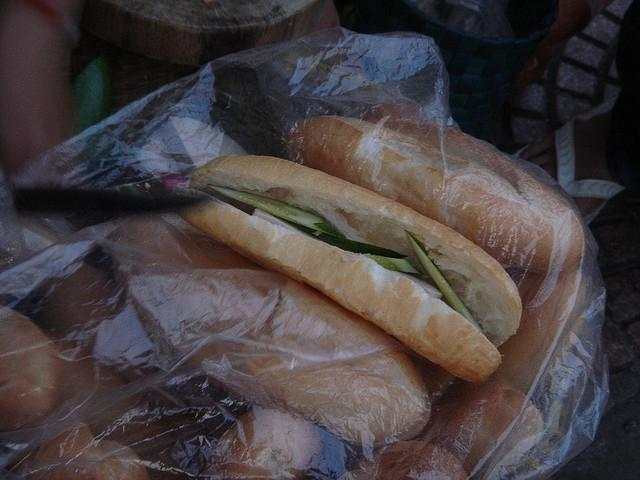cucumber: (188, 187, 410, 259), (404, 229, 486, 338), (207, 184, 347, 239), (68, 53, 114, 140), (362, 254, 424, 274)
